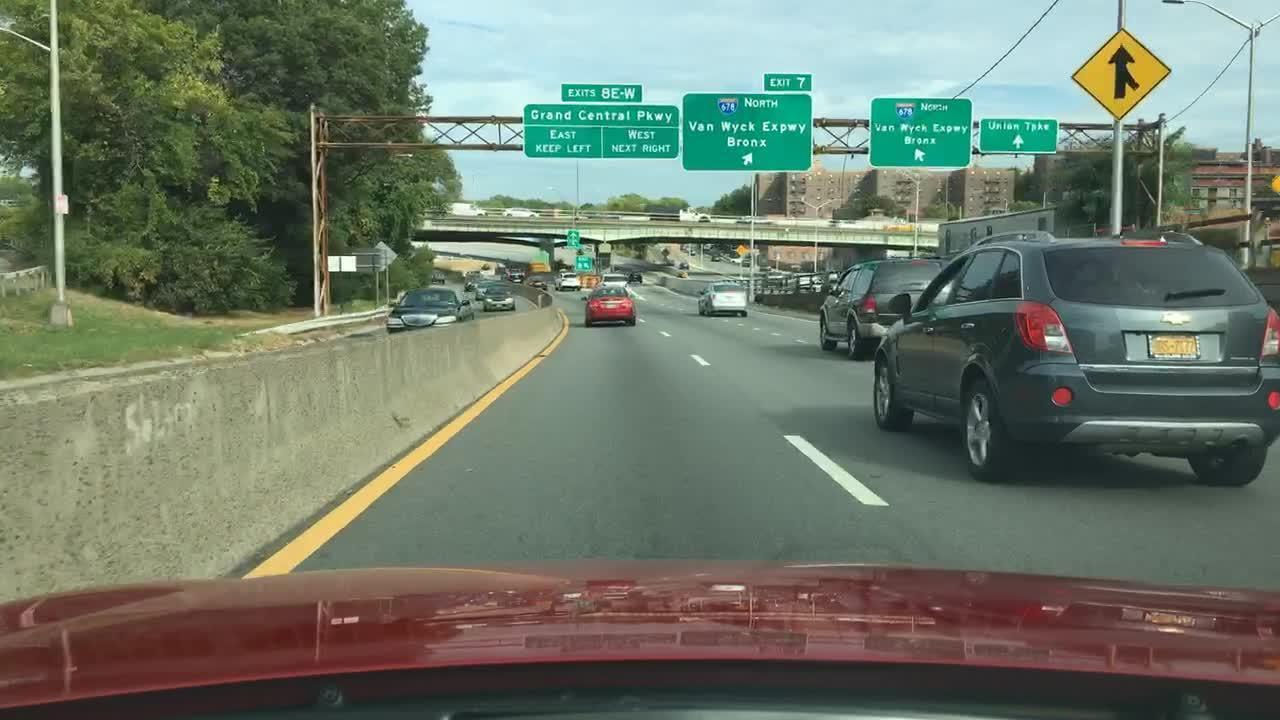chevrolet: (1158, 308, 1195, 332)
